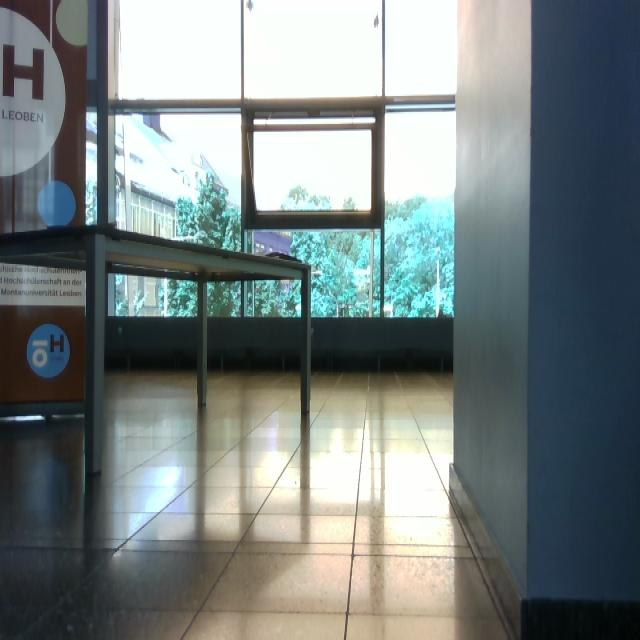door: (2, 1, 639, 638)
light bulb: (37, 180, 77, 228), (374, 14, 380, 29), (246, 1, 254, 12)
pillar: (450, 1, 640, 637)
tiled floor: (1, 368, 518, 638)
window: (103, 1, 458, 322)
